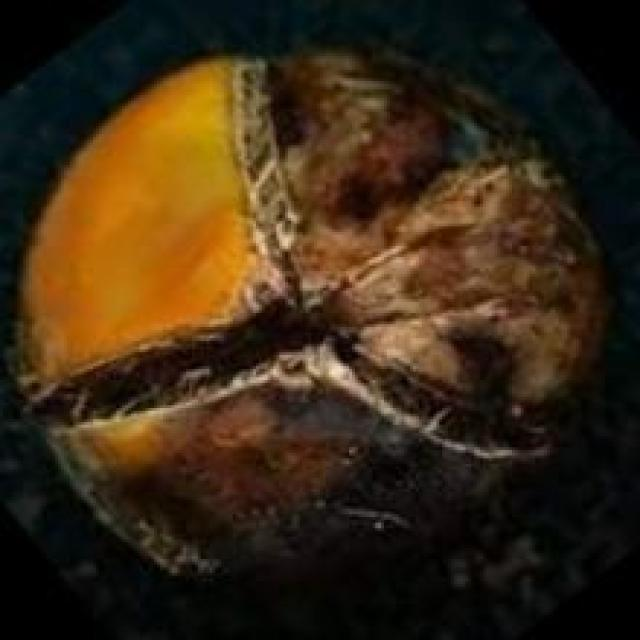damaged: (17, 39, 608, 612)
